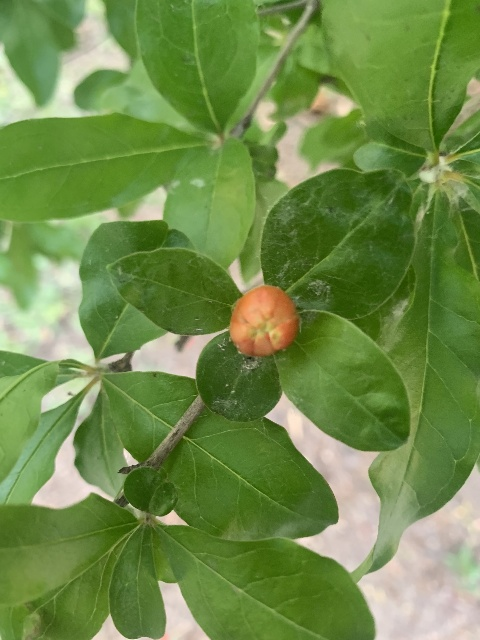bud: (229, 284, 299, 357)
